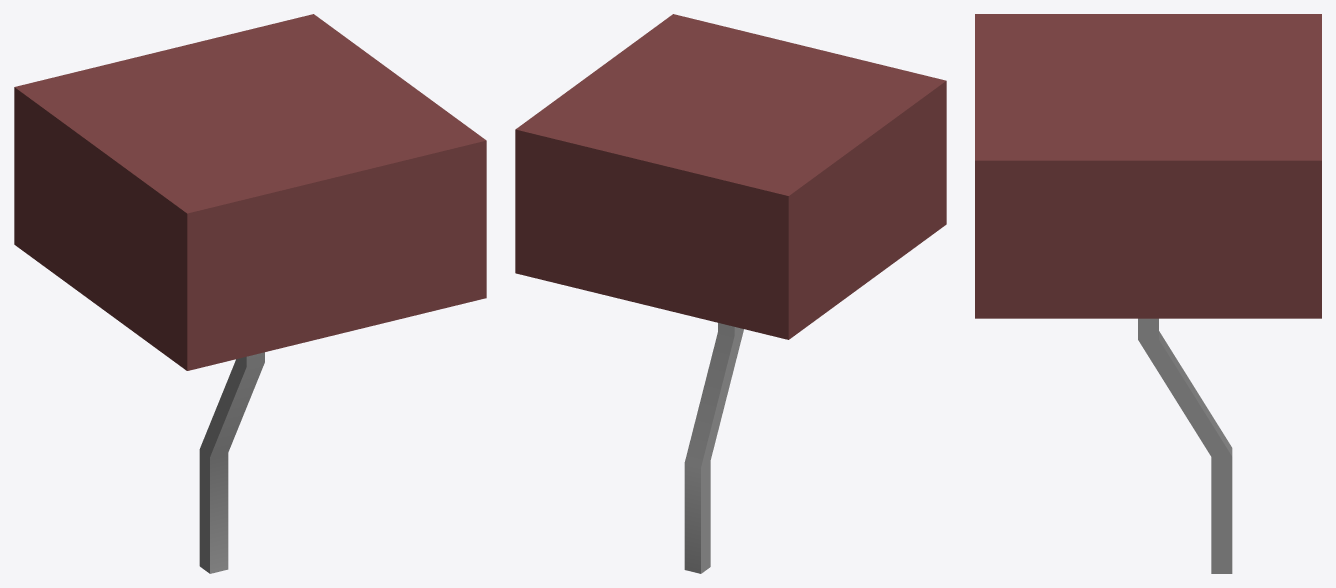
The model's file is MushroomBig1.fbx.
The picture shows the model from 3 angles, left to right: view 1: azimuth 30°, elevation 25°; view 2: azimuth 150°, elevation 25°; view 3: azimuth 270°, elevation 25°; orthographic projection. The views are drawn at different scales.
Parts seen in each view (by area): view 1: MushroomBig1; view 2: MushroomBig1; view 3: MushroomBig1.
Boxes of the visible parts, x1=… form: MushroomBig1: x1=14, y1=14, x2=486, y2=573; MushroomBig1: x1=515, y1=14, x2=946, y2=573; MushroomBig1: x1=975, y1=14, x2=1321, y2=573.
Size of the model in its own units: 32.69 by 50.17 by 32.69.
